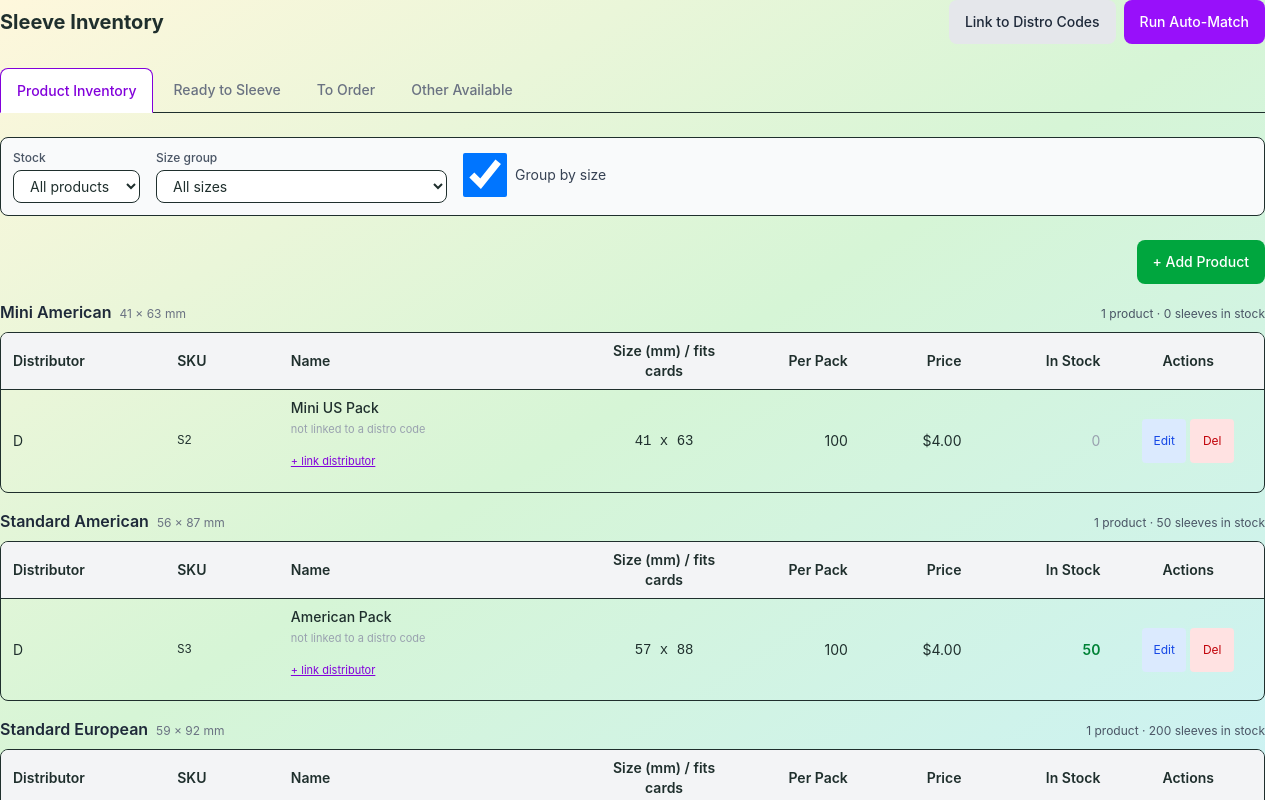
Test: SleeveInventoryTab › stock filter and size groups › ready-to-sleeve can be filtered by size group and shows a group badge
Click the button "Ready to Sleeve" at (227, 90), box [158, 68, 297, 112]
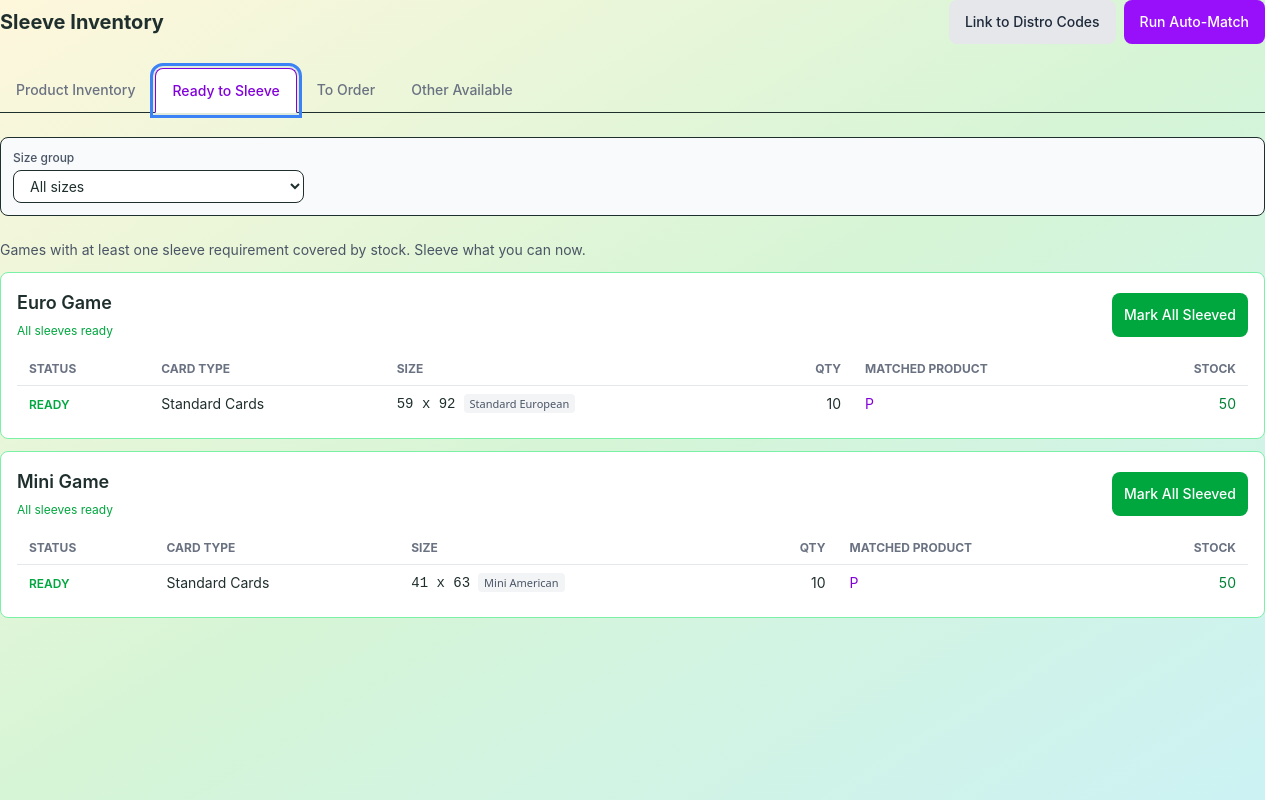
Expected: the text "Standard European" is shown, [464, 394, 575, 413]
Expected: the heading "Euro Game" is shown, [17, 289, 113, 317]
Select "Mini American (41 × 63 mm)" in the dropdown labelled "Size group" at (158, 186), box [13, 170, 304, 203]
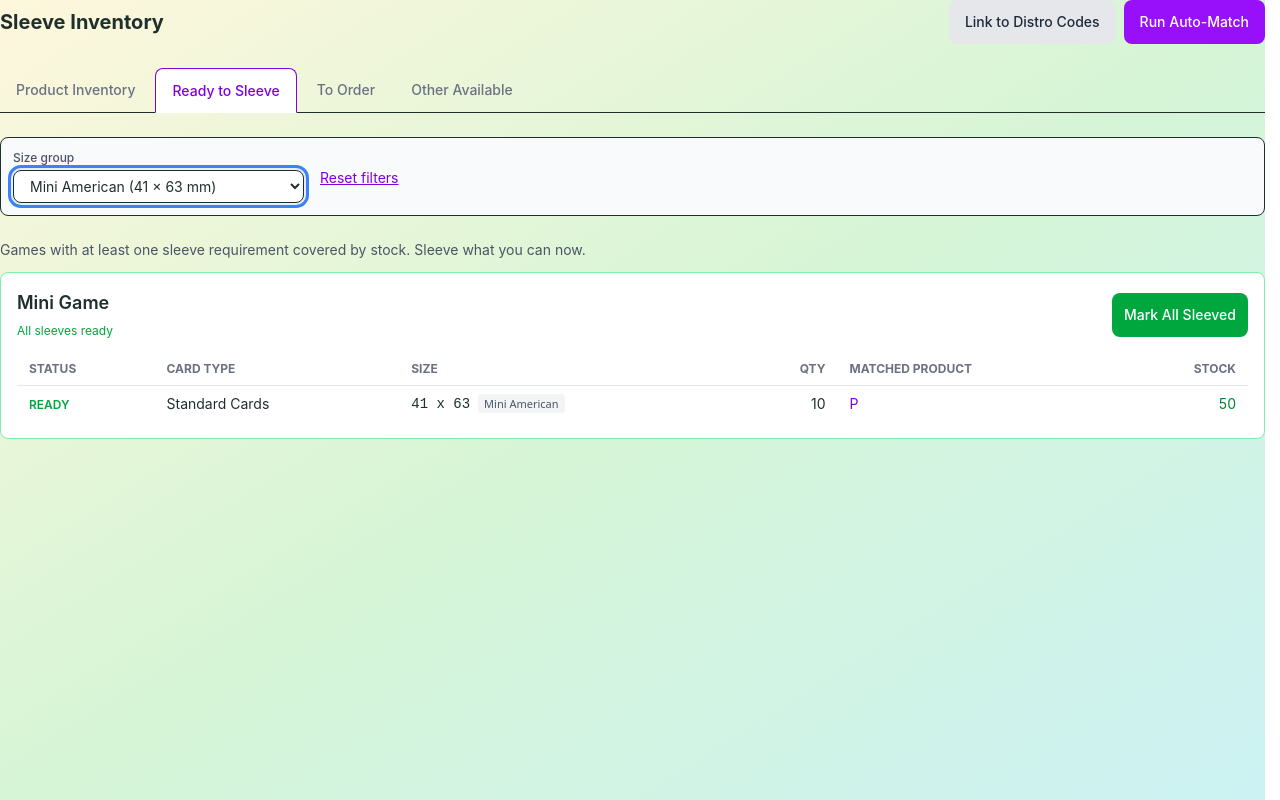
Expected: the heading "Mini Game" is shown, [17, 289, 113, 317]
Expected: the heading "Euro Game" is gone
Select "Tarot (70 × 120 mm)" in the dropdown labelled "Size group" at (158, 186), box [13, 170, 304, 203]
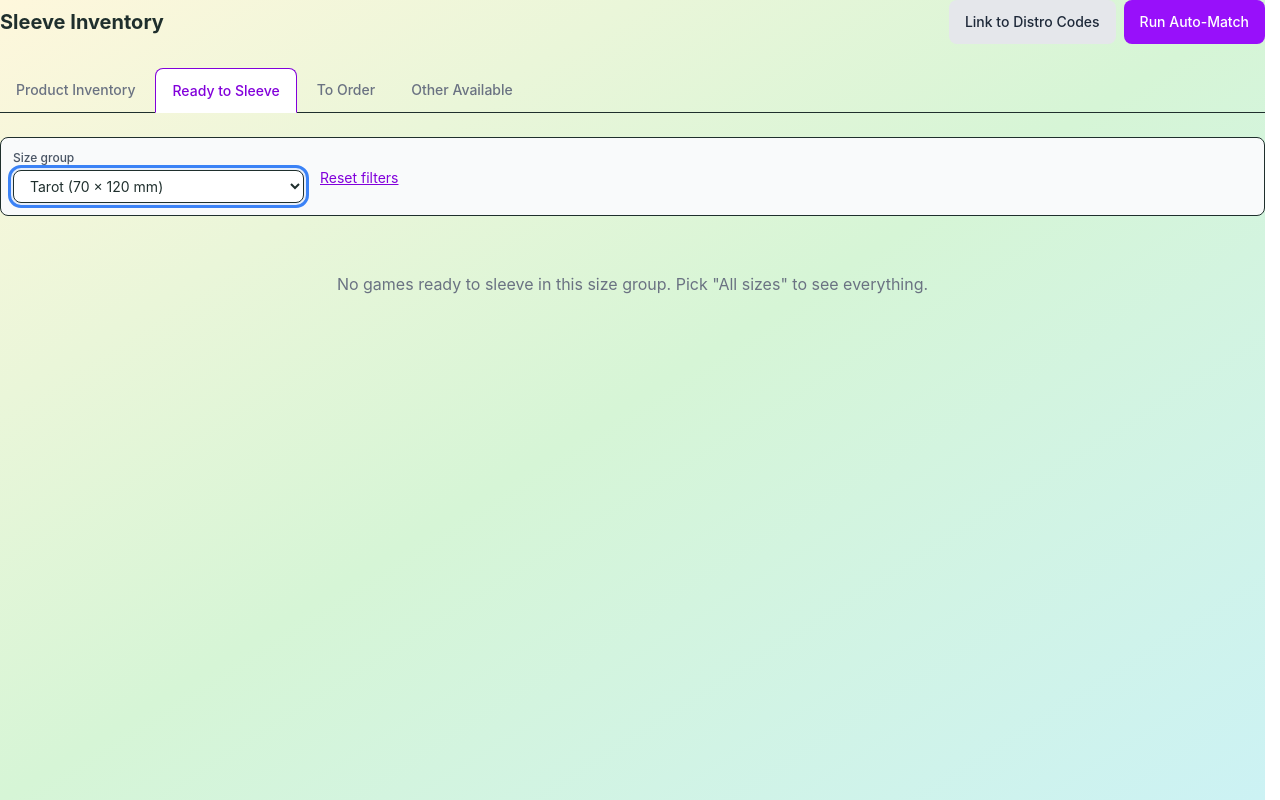
Expected: the text "No games ready to sleeve in this size group" is shown, [337, 274, 928, 294]
